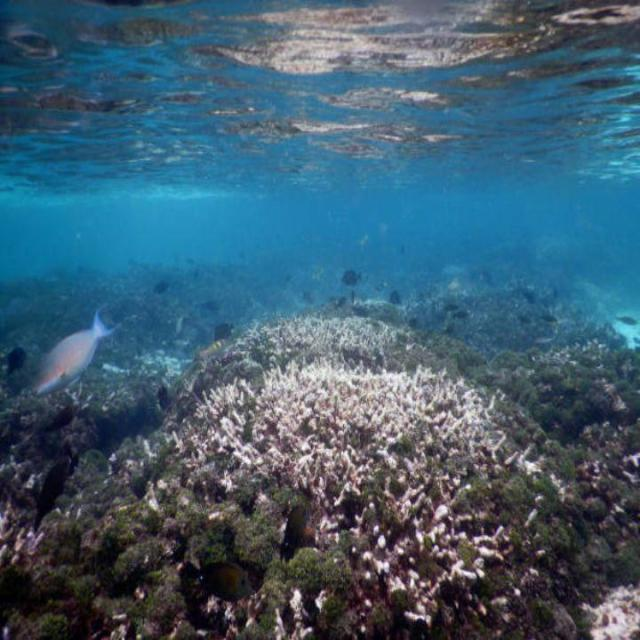Dead Coral: (211, 311, 476, 491)
